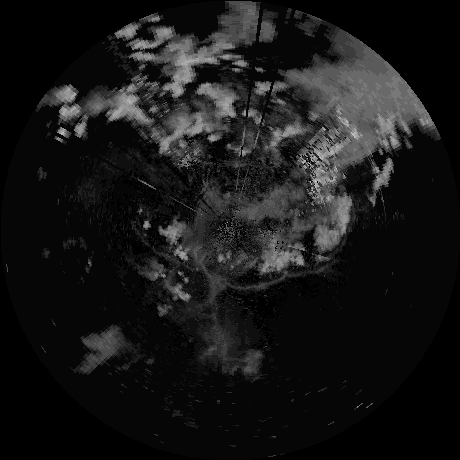frontgust: (133, 225, 199, 273), (208, 273, 286, 290), (288, 260, 333, 276)
